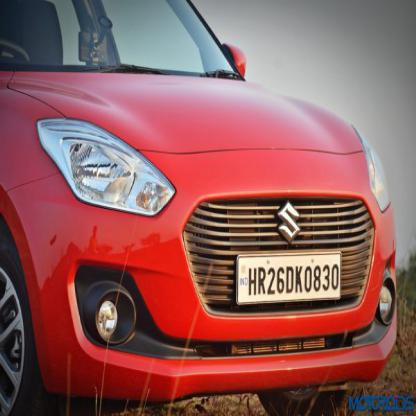license_plate: (236, 252, 339, 300)
